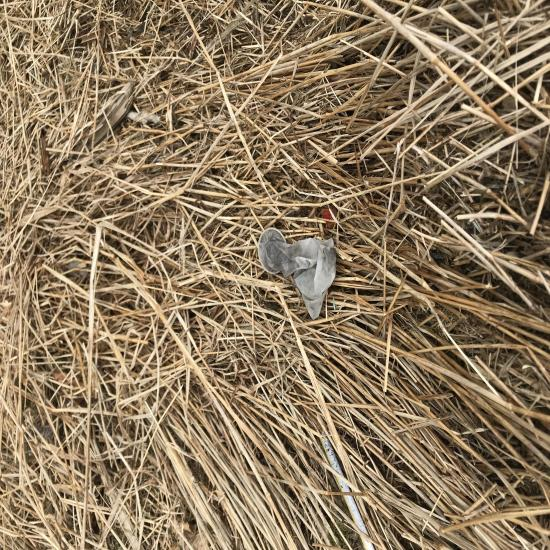Other plastic: (172, 343, 242, 448)
Plastic straw: (0, 426, 87, 500)
